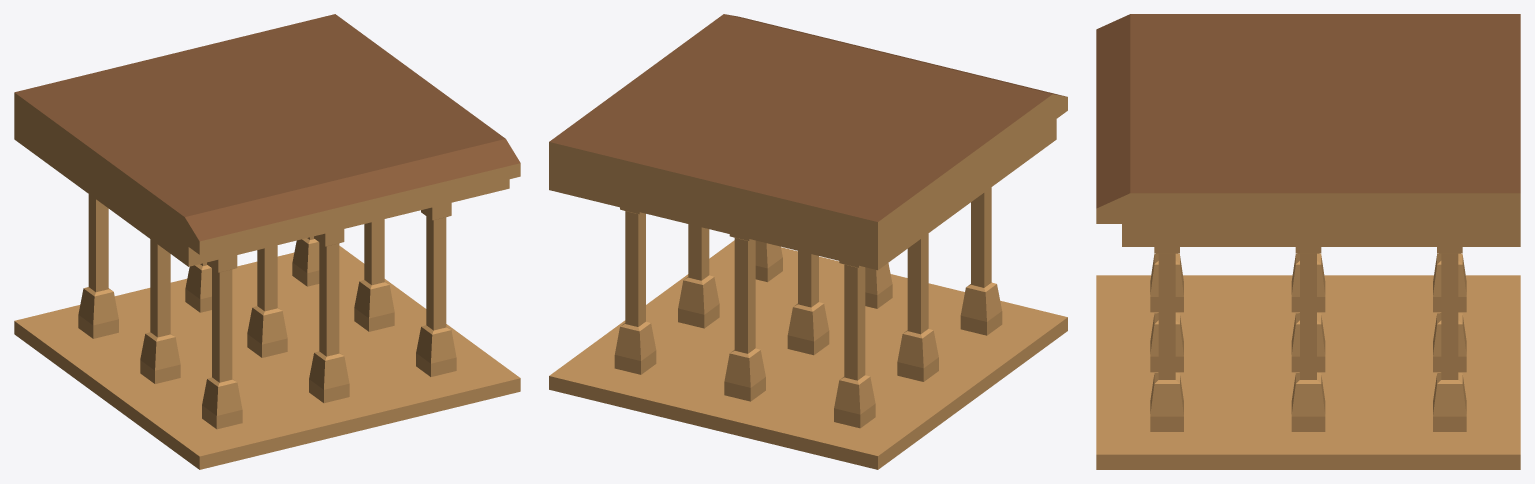
File: india_hindu-pillars-side.fbx
3 views of the same model, side by side, from view 1: azimuth 30°, elevation 25°; view 2: azimuth 150°, elevation 25°; view 3: azimuth 270°, elevation 25° (orthographic). The views are drawn at different scales.
Parts seen in each view (by area): view 1: india_hindu_pillars_side; view 2: india_hindu_pillars_side; view 3: india_hindu_pillars_side.
Part boxes in pixels (bbox=[...]): india_hindu_pillars_side: bbox=[14, 14, 520, 469]; india_hindu_pillars_side: bbox=[549, 14, 1067, 469]; india_hindu_pillars_side: bbox=[1096, 14, 1520, 469].
Size of the model in its own units: 200 by 144 by 200.
